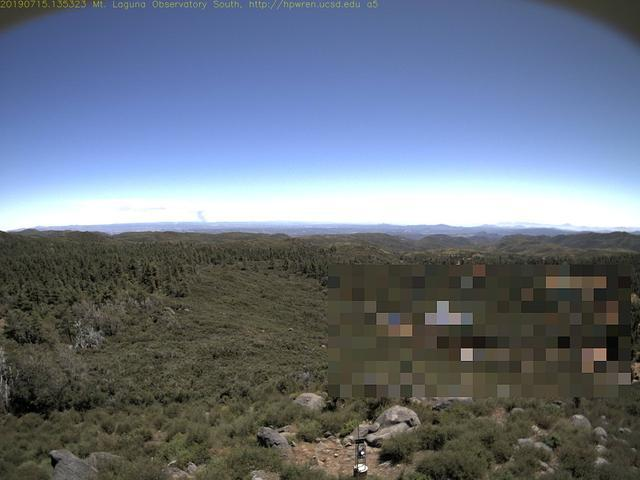smoke: (194, 207, 211, 231)
